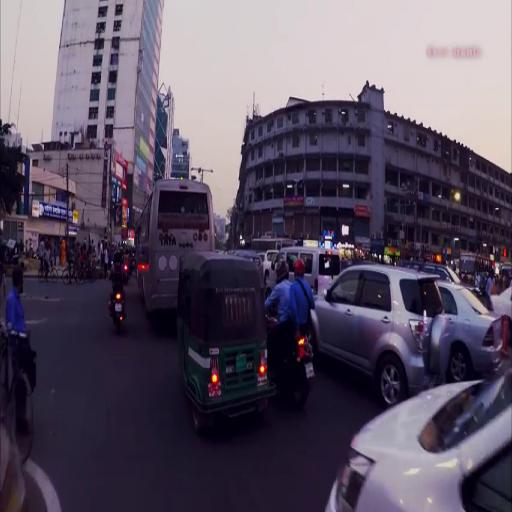bicycle: (62, 258, 86, 286), (38, 260, 59, 283)
bus: (140, 179, 216, 313), (459, 251, 493, 281)
car: (312, 264, 453, 408), (438, 278, 504, 380)
minivan: (325, 356, 512, 511)
motorbike: (266, 315, 316, 413), (110, 266, 127, 330)
three wheelers (CNG): (177, 250, 271, 428)
van: (271, 247, 341, 296)
